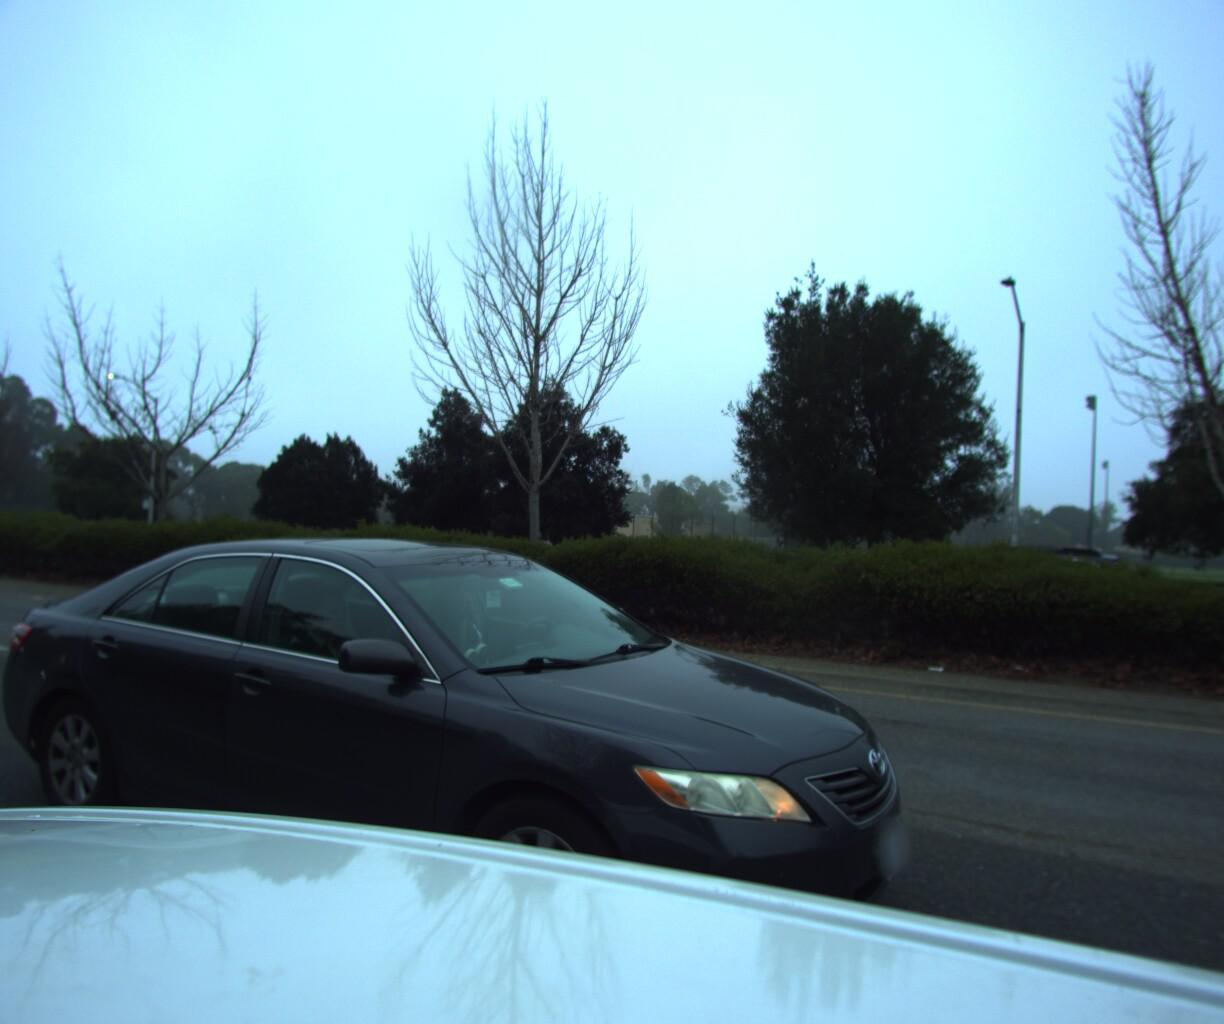car: (0, 494, 912, 1024), (879, 532, 1224, 658)
